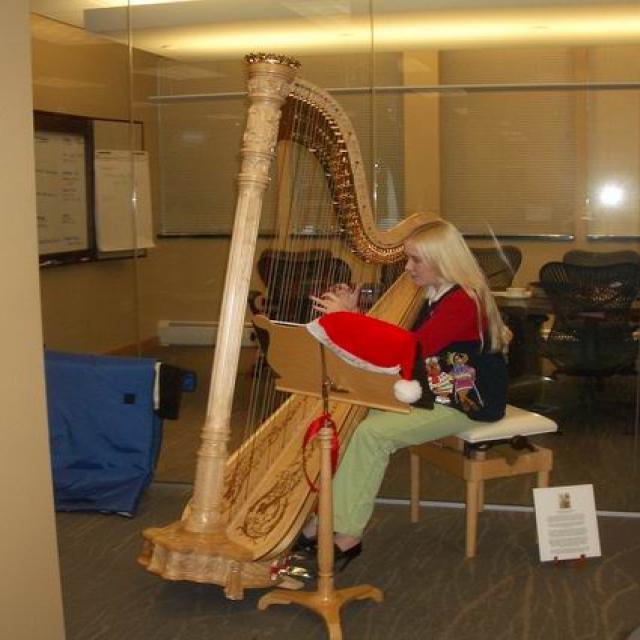harp: (136, 49, 460, 592)
